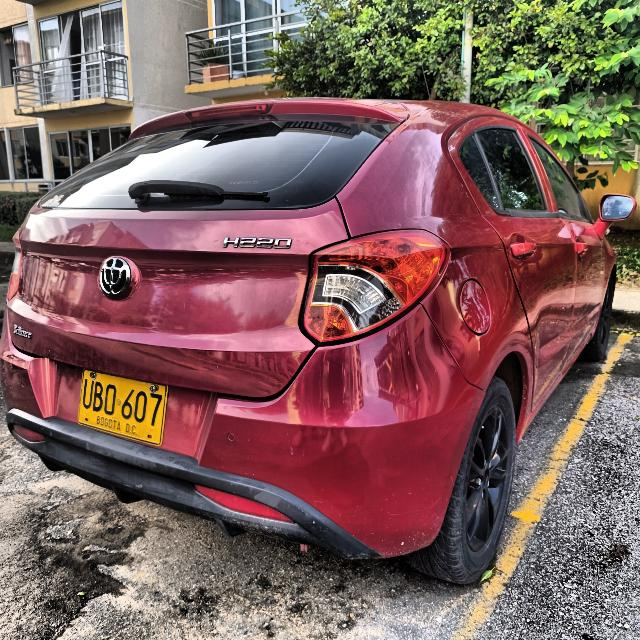plate: (79, 370, 167, 445)
